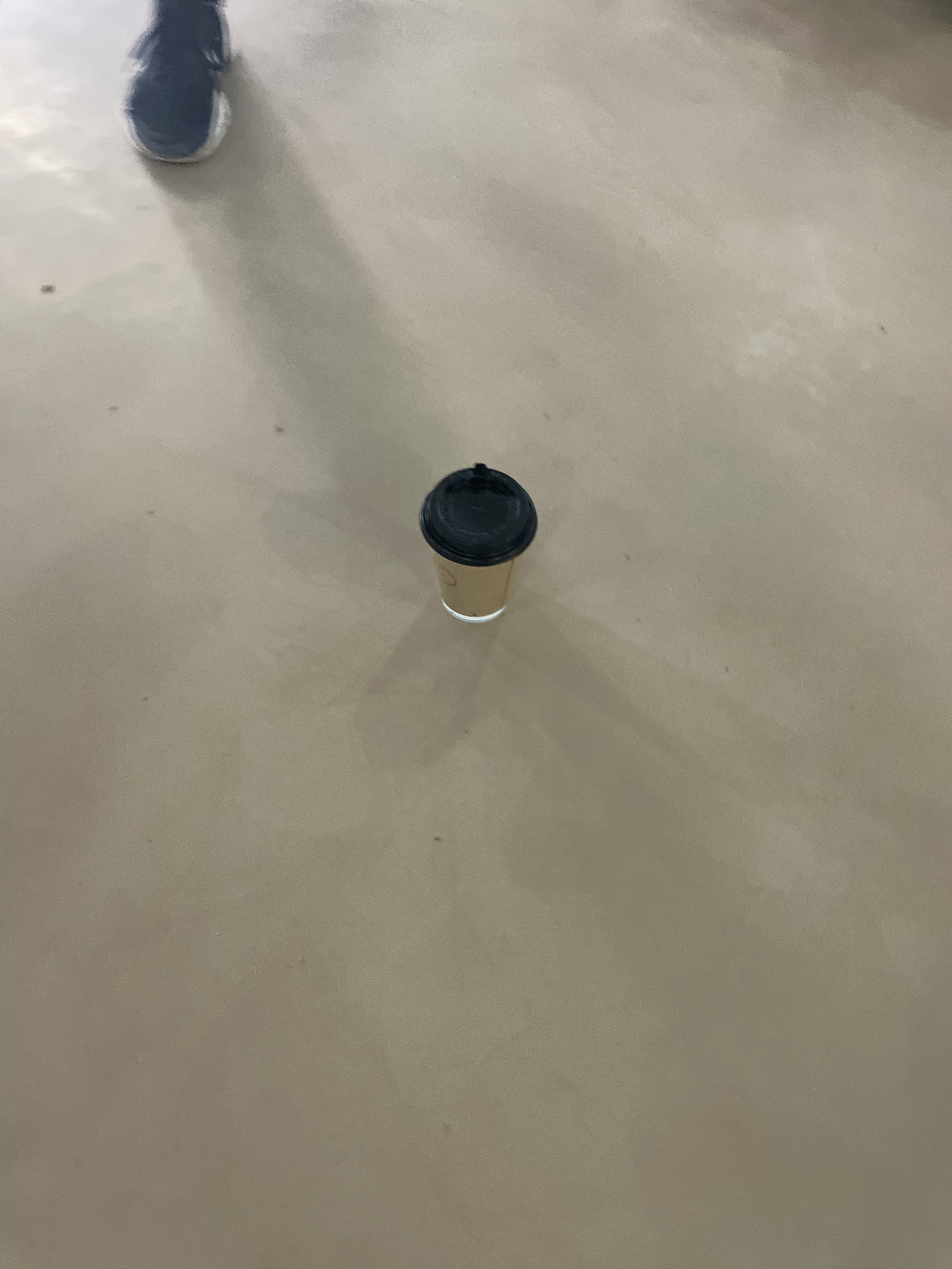cup: (420, 463, 537, 622)
